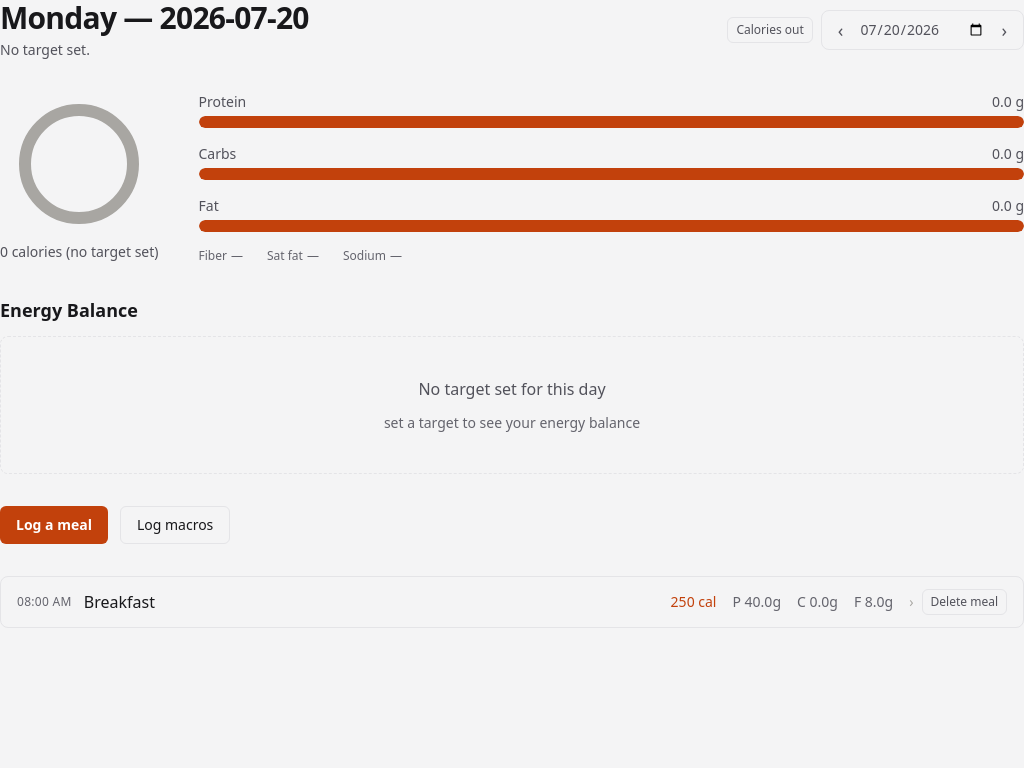
DayView › edits an item: delete-then-relog via delete_meal_item + create_meal, success toast
Click the button "08:00 AM Breakfast 250 cal P 40.0g C 0.0g F 8.0g ›" at x=44, y=602, box [17,590,914,614]
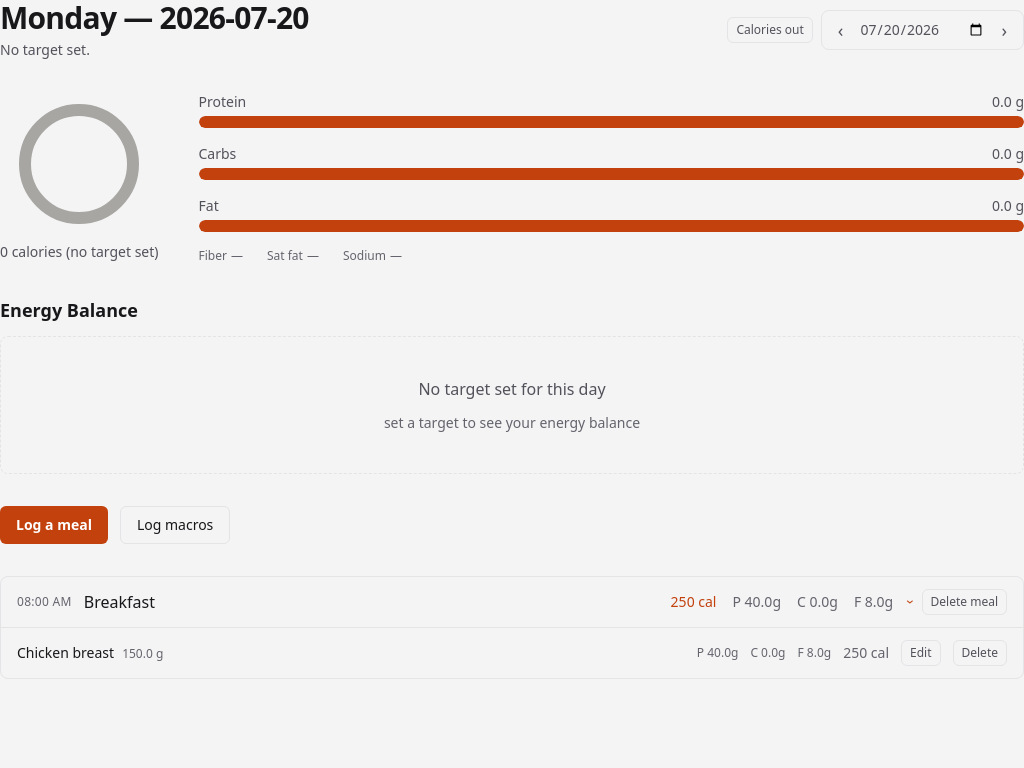
Click the button "Edit" at x=921, y=653, box [901,640,940,666]
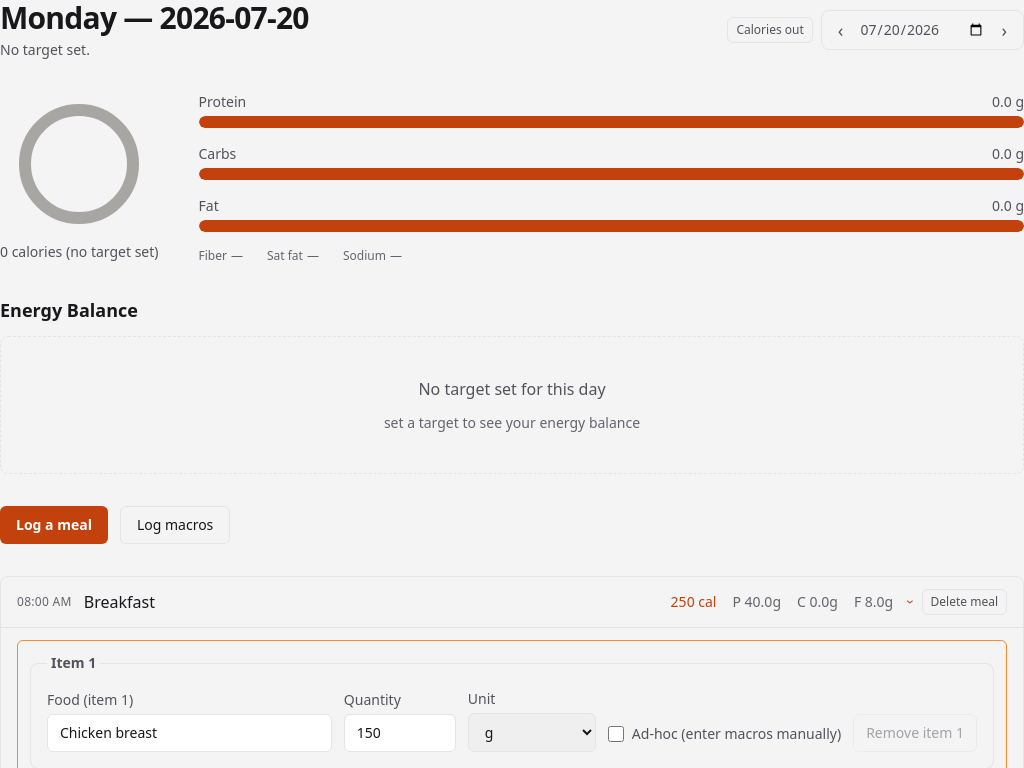
Replace the text in the number field labelled "Quantity" with "200" at x=400, y=733, box [344,714,456,752]
(page scrolled)
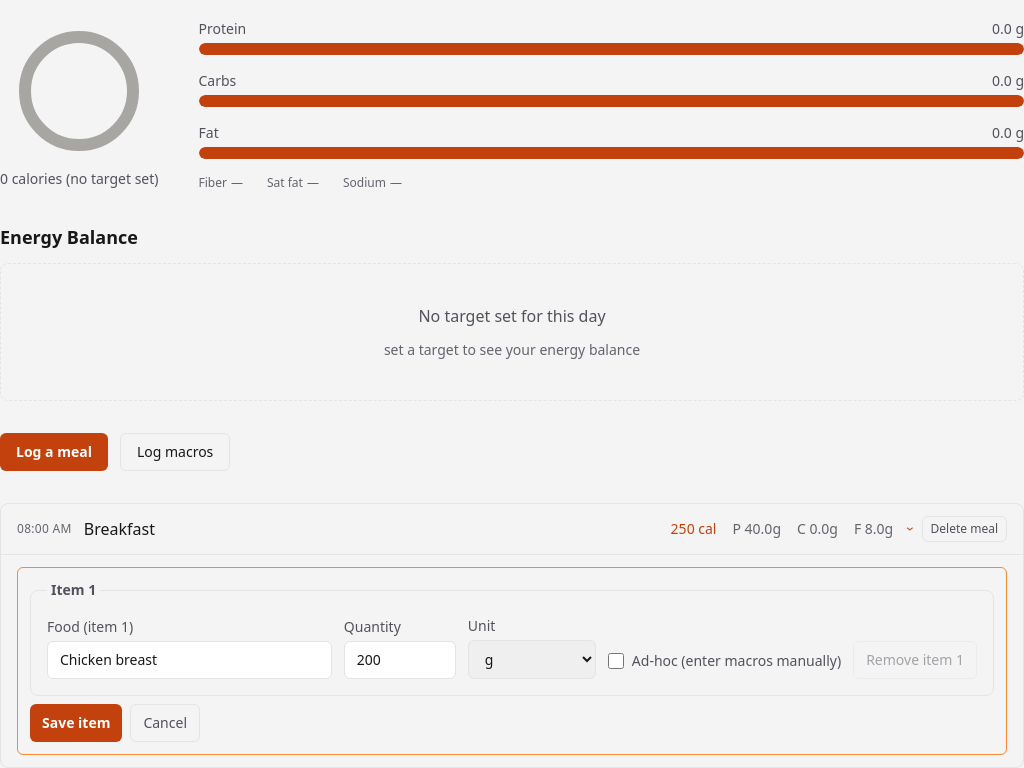
Click the button "Save item" at x=76, y=723, box [30,704,122,742]
(page scrolled)
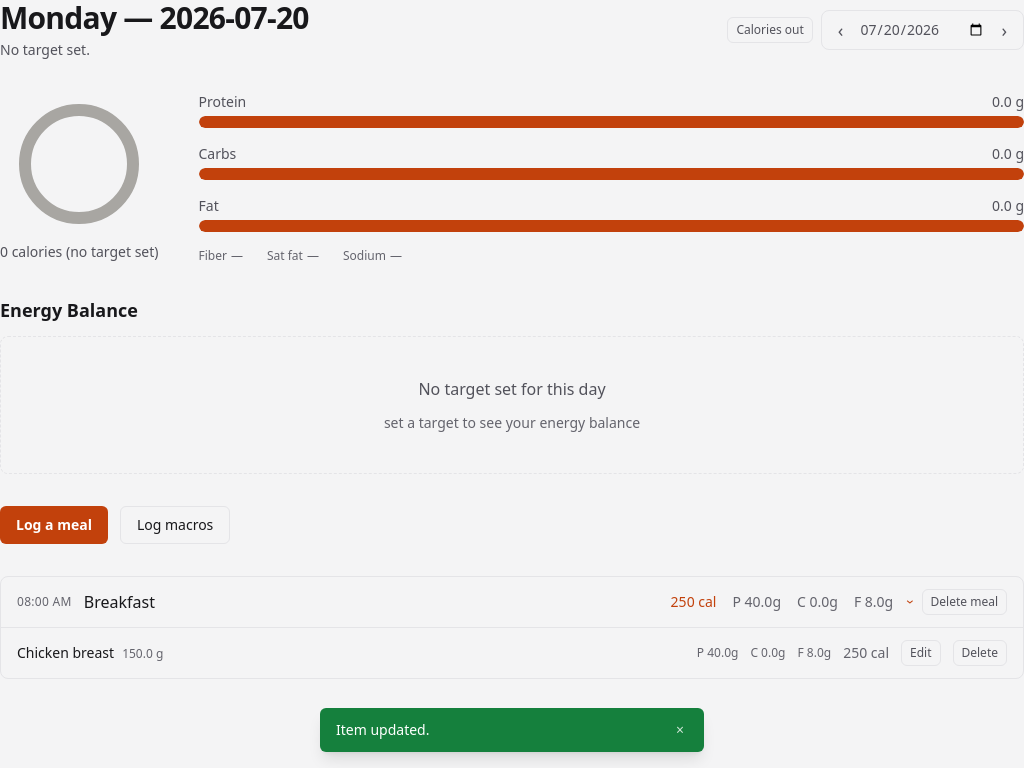
expect the text "Item updated." is shown: met, box [336,720,430,740]
